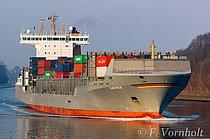Ship: (10, 8, 196, 122)
